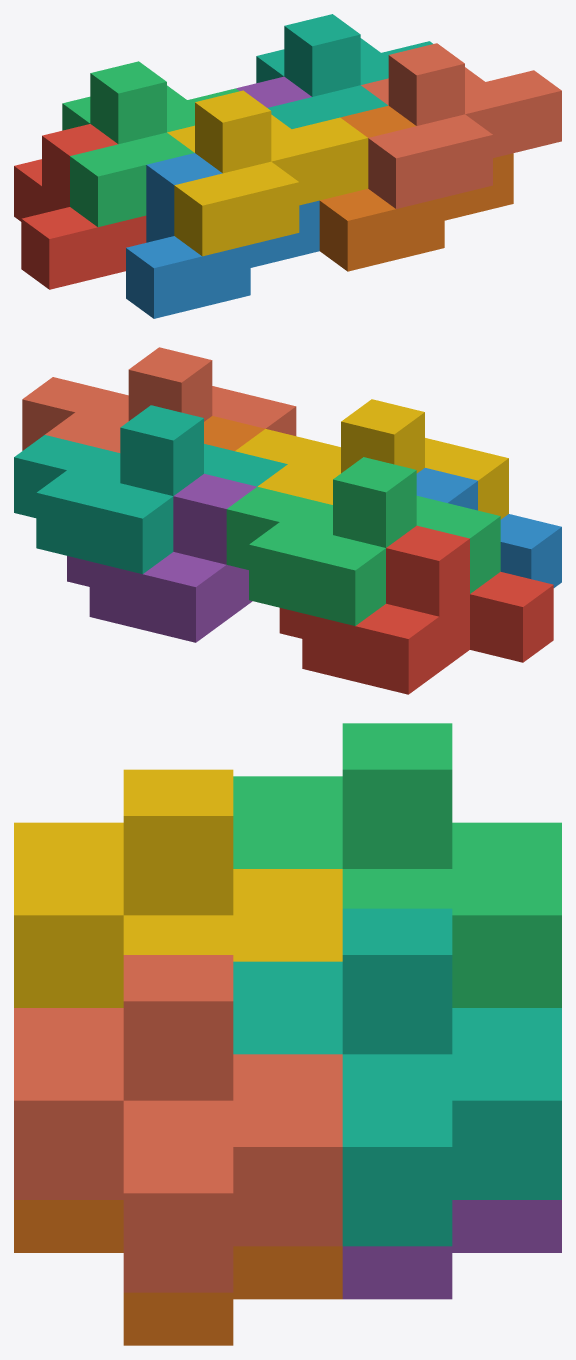
The model's file is tiling.obj.
3 renders of one model, top to bottom at view 1: azimuth 30°, elevation 25°; view 2: azimuth 150°, elevation 25°; view 3: azimuth 270°, elevation 25°, orthographic. The views are drawn at different scales.
Parts seen in each view (by area): view 1: copy_1_domain_4, copy_1_domain_8, copy_1_domain_3, copy_1_domain_2, copy_1_domain_1, copy_1_domain_6, copy_1_domain_7, copy_1_domain_5; view 2: copy_1_domain_3, copy_1_domain_1, copy_1_domain_7, copy_1_domain_5, copy_1_domain_8, copy_1_domain_4, copy_1_domain_2, copy_1_domain_6; view 3: copy_1_domain_8, copy_1_domain_7, copy_1_domain_3, copy_1_domain_4, copy_1_domain_6, copy_1_domain_5.
Part boxes in pixels (x1,y1,x2,y2): copy_1_domain_4: (167,90,368,256); copy_1_domain_8: (361,43,561,208); copy_1_domain_3: (62,61,239,227); copy_1_domain_2: (126,153,319,318); copy_1_domain_1: (14,124,146,289); copy_1_domain_6: (319,105,513,271); copy_1_domain_7: (256,14,432,128); copy_1_domain_5: (236,76,311,107); copy_1_domain_3: (226,457,500,625); copy_1_domain_1: (279,525,553,694); copy_1_domain_7: (14,405,287,574); copy_1_domain_5: (67,473,256,642); copy_1_domain_8: (22,347,296,452); copy_1_domain_4: (235,399,508,519); copy_1_domain_2: (416,468,561,587); copy_1_domain_6: (204,416,264,451); copy_1_domain_8: (14,955,342,1292); copy_1_domain_7: (233,908,561,1246); copy_1_domain_3: (233,723,561,1007); copy_1_domain_4: (14,769,342,1007); copy_1_domain_6: (14,1200,342,1345); copy_1_domain_5: (342,1200,561,1299).
Bounding box in the file's own units: 10 × 3 × 5.
